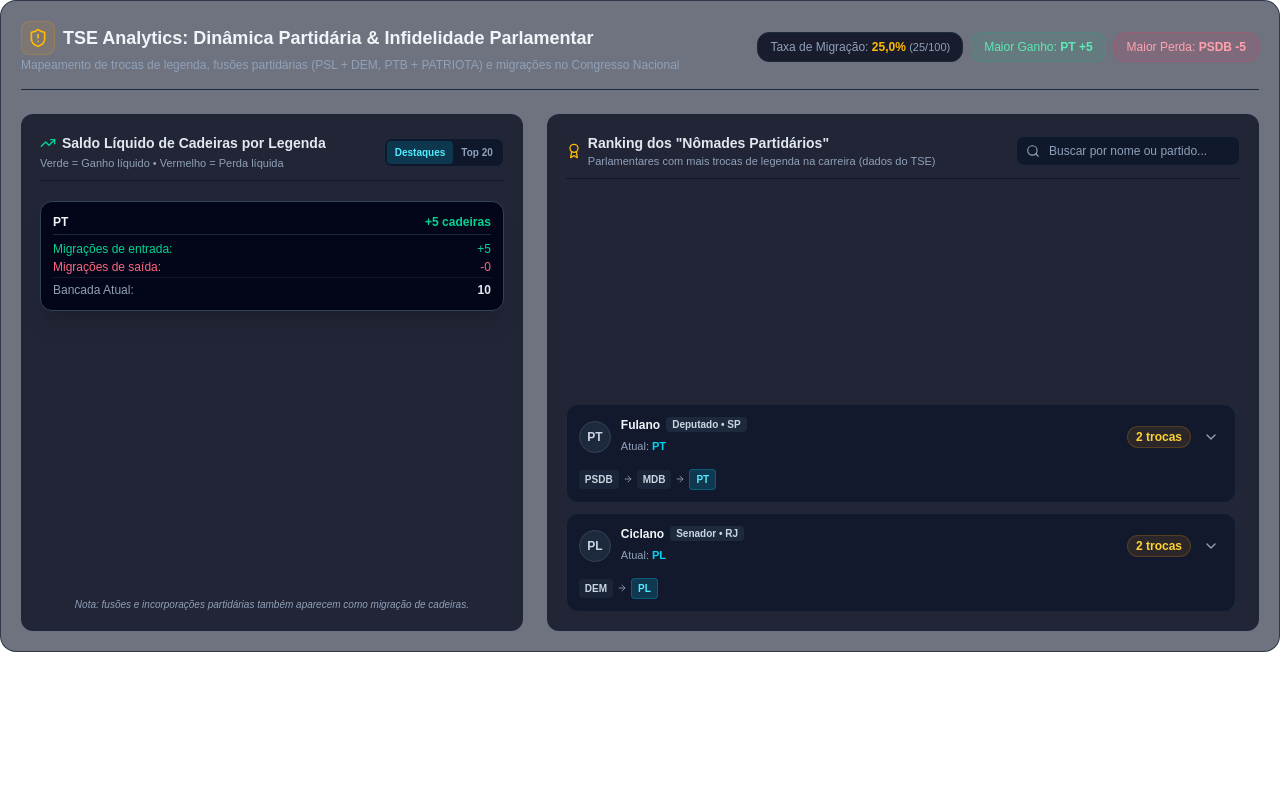
Test case: PartyFidelityPanel › expande e recolhe o histórico cronológico
Click the button named "Detalhes das filiações de Fulano": (1211, 436) [1199,424,1223,448]
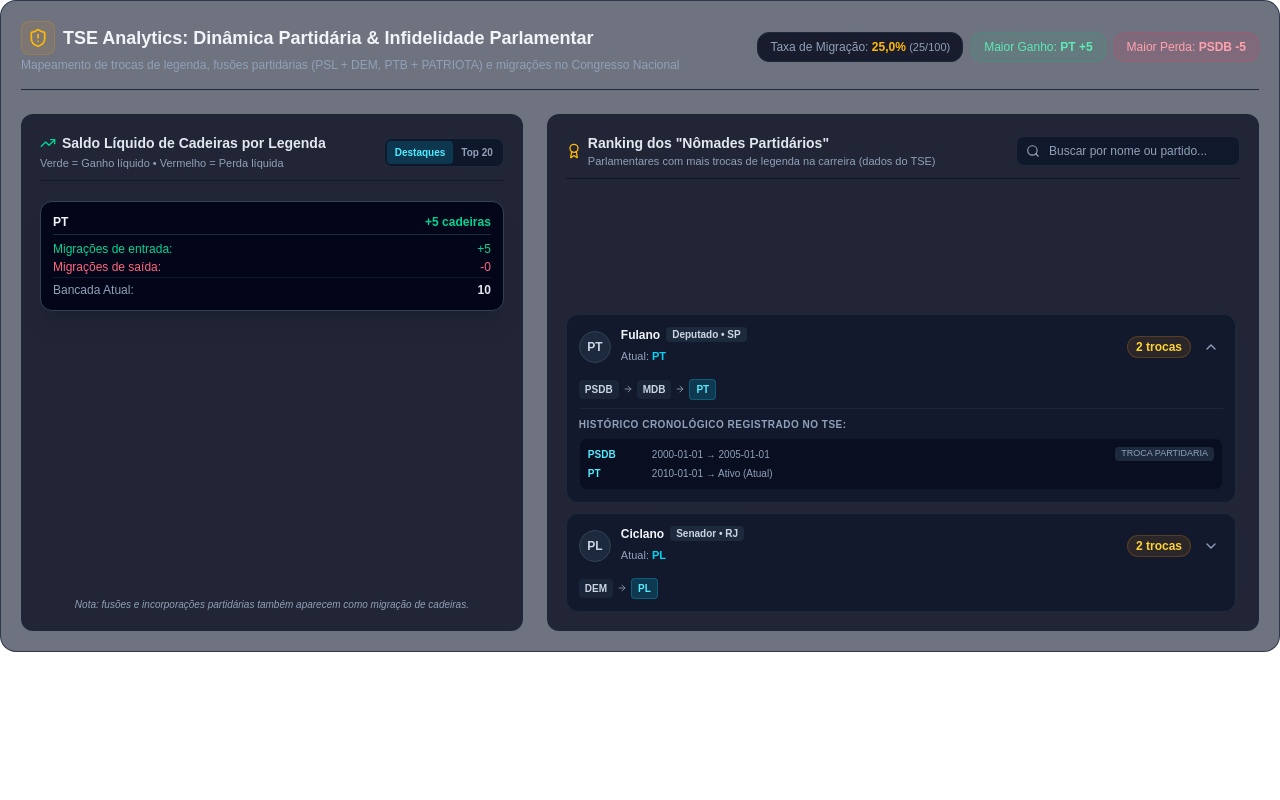
Expected: the button named "Detalhes das filiações de Fulano" is expanded
Expected: the text "Histórico Cronológico Registrado no TSE:" is shown, [579,418,847,430]
Expected: the text "2010-01-01 → Ativo (Atual)" is shown, [652,466,772,480]
Click the button named "Detalhes das filiações de Fulano": (1211, 346) [1199,334,1223,358]
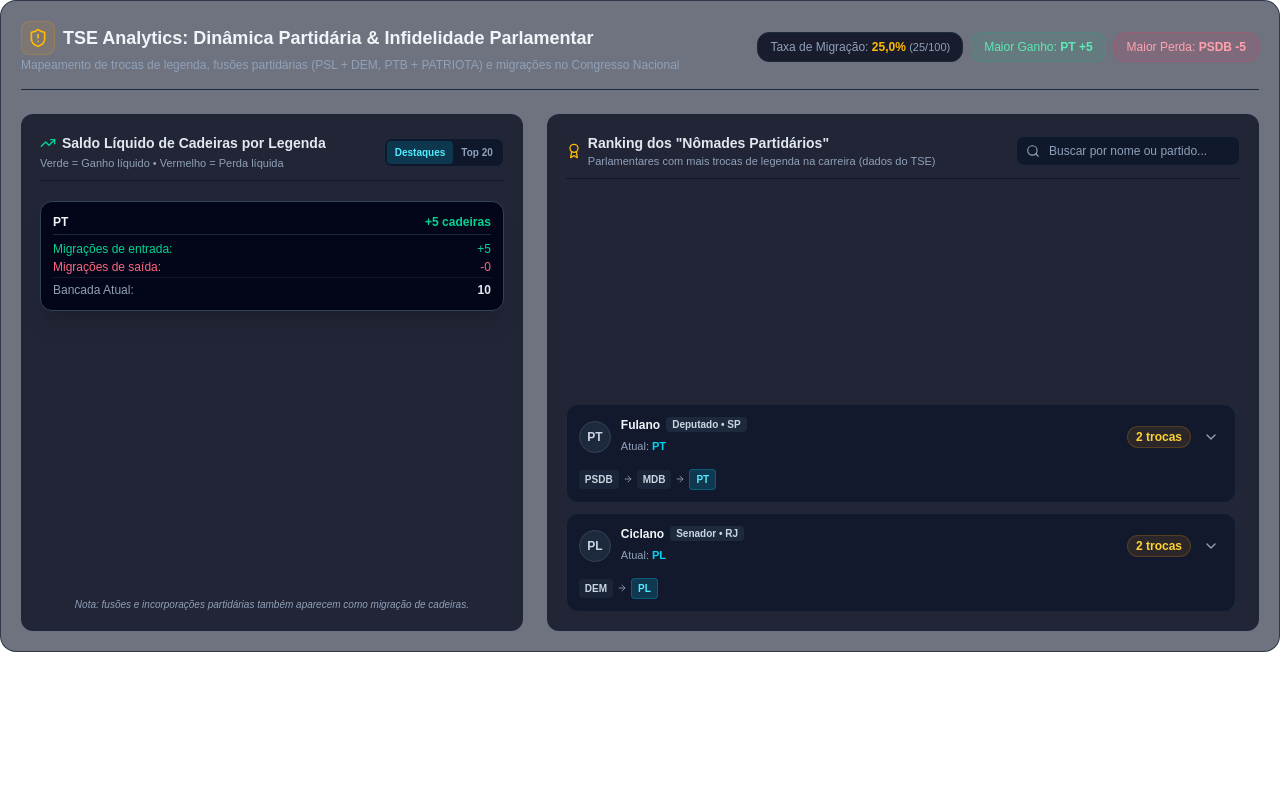
Expected: the text "Histórico Cronológico" is gone
